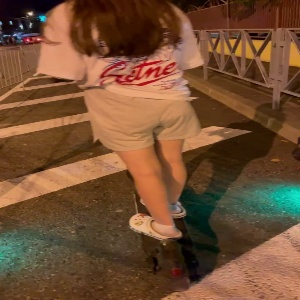human on a scooter: (36, 1, 207, 293)
